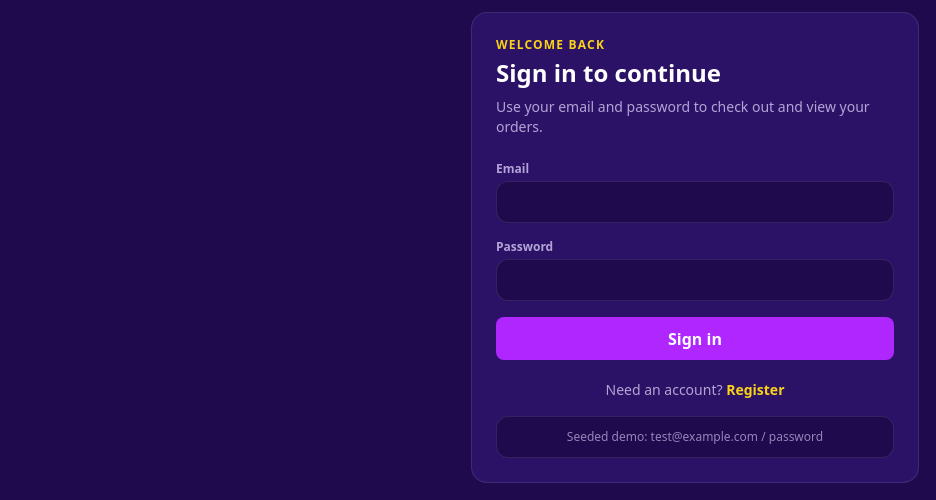
Test: AuthForm › submits login credentials and returns to the storefront by default
Type "ada@example.com" into the field labelled "Email" at (695, 202), box left=496, top=181, right=894, bottom=223
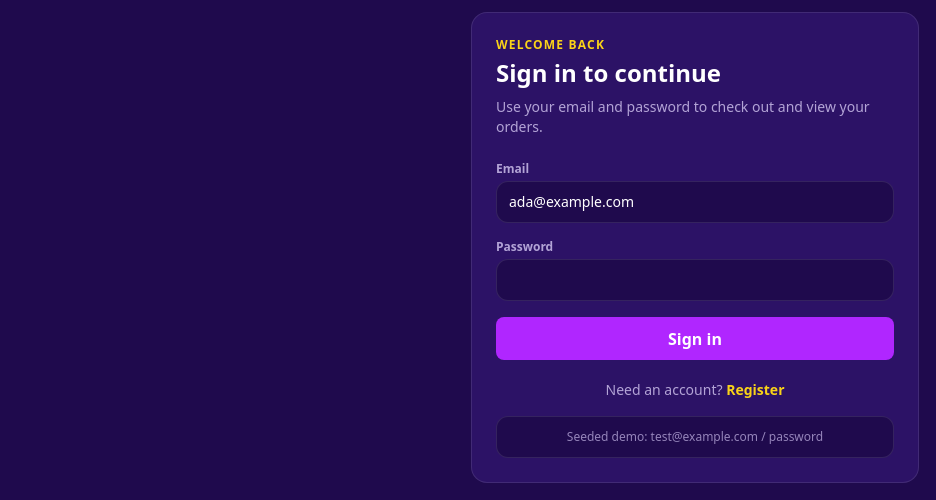
Type "password" into the password field labelled "Password" at (695, 280), box left=496, top=259, right=894, bottom=301
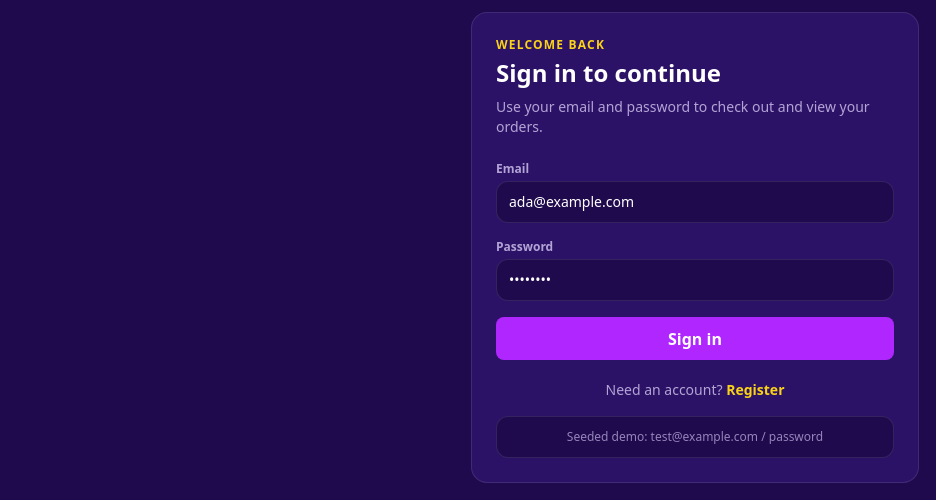
Click the button "Sign in" at (695, 339), box left=496, top=317, right=894, bottom=360
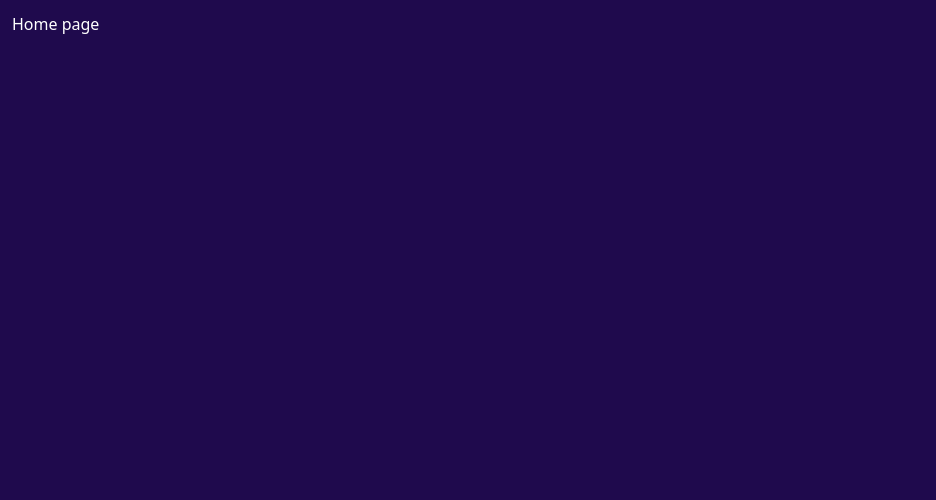
Expected: the text "Home page" is shown, left=12, top=13, right=99, bottom=35
